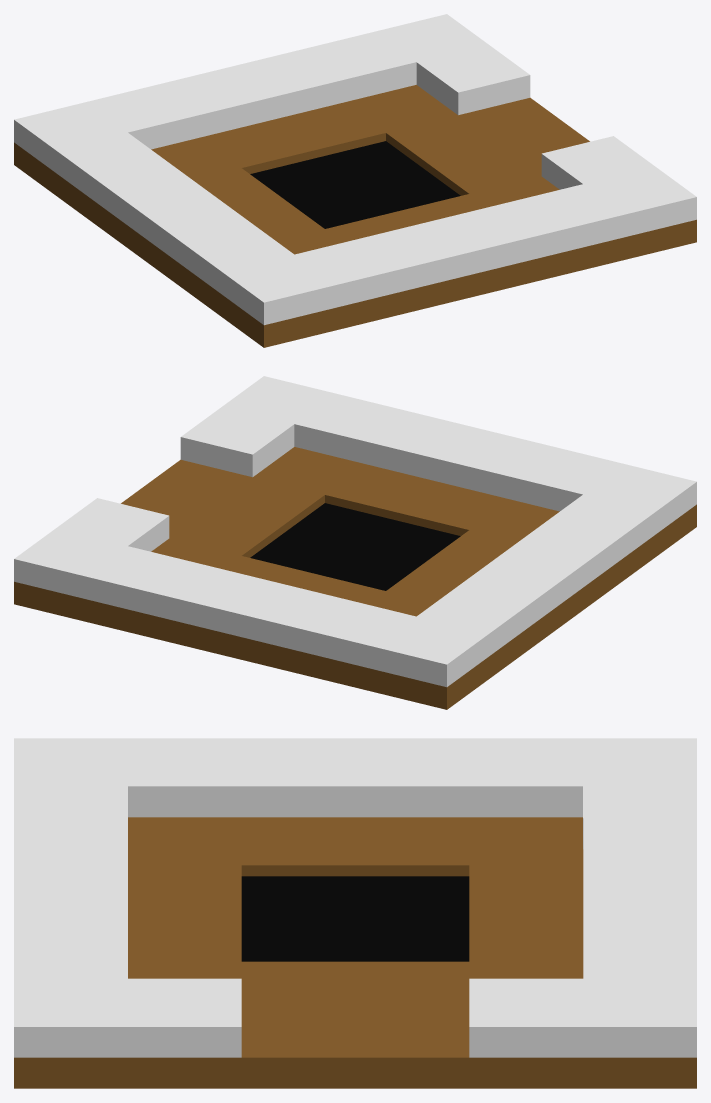
Rendered from WinterEnd.fbx.
The picture shows the model from 3 angles, top to bottom: view 1: azimuth 30°, elevation 25°; view 2: azimuth 150°, elevation 25°; view 3: azimuth 270°, elevation 25°; orthographic projection. The views are drawn at different scales.
Visible parts, largest first — view 1: WinterEnd; view 2: WinterEnd; view 3: WinterEnd.
Boxes of the visible parts, left/top/right/bottom form: WinterEnd: left=14, top=14, right=696, bottom=347; WinterEnd: left=14, top=376, right=696, bottom=709; WinterEnd: left=14, top=738, right=696, bottom=1088.
Size of the model in its own units: 1 by 0.1 by 1.
